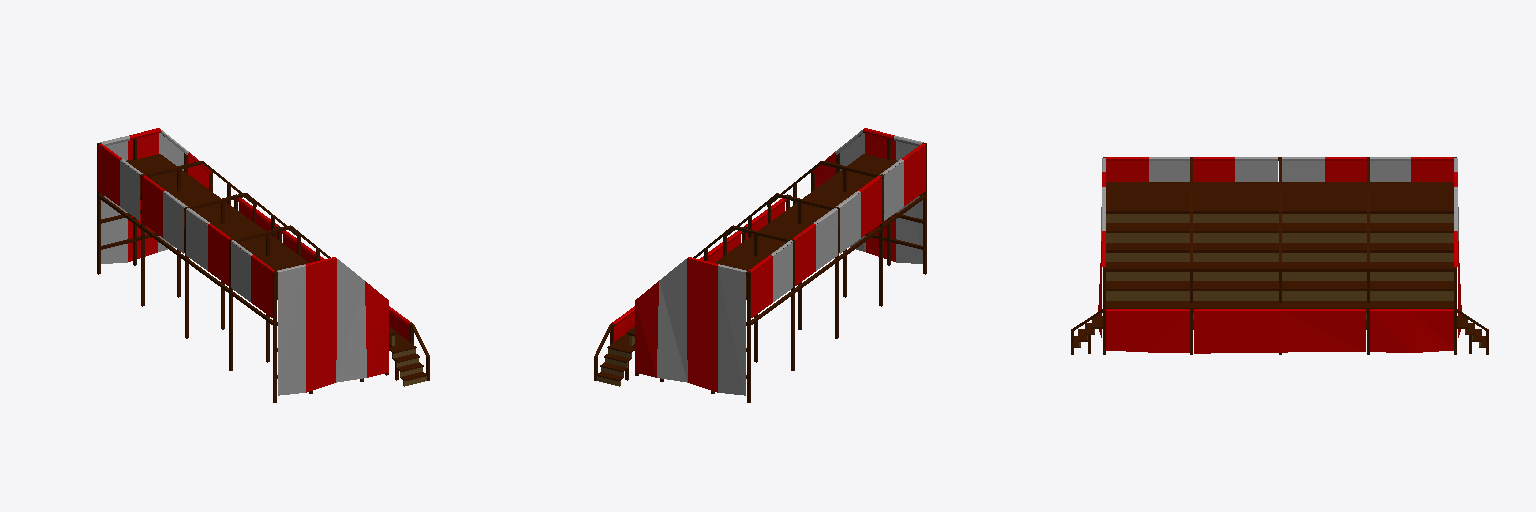
The model's file is Platform_01.obj.
3 views of the same model, side by side, from view 1: azimuth 30°, elevation 25°; view 2: azimuth 150°, elevation 25°; view 3: azimuth 270°, elevation 25° (orthographic).
Parts seen in each view (by area): view 1: Platform_01; view 2: Platform_01; view 3: Platform_01.
Part boxes in pixels (x1,y1,x2,y2): Platform_01: (97,128,429,402); Platform_01: (594,128,926,402); Platform_01: (1071,157,1488,354).
Bounding box in the file's own units: 5.63 × 4.96 × 14.4.